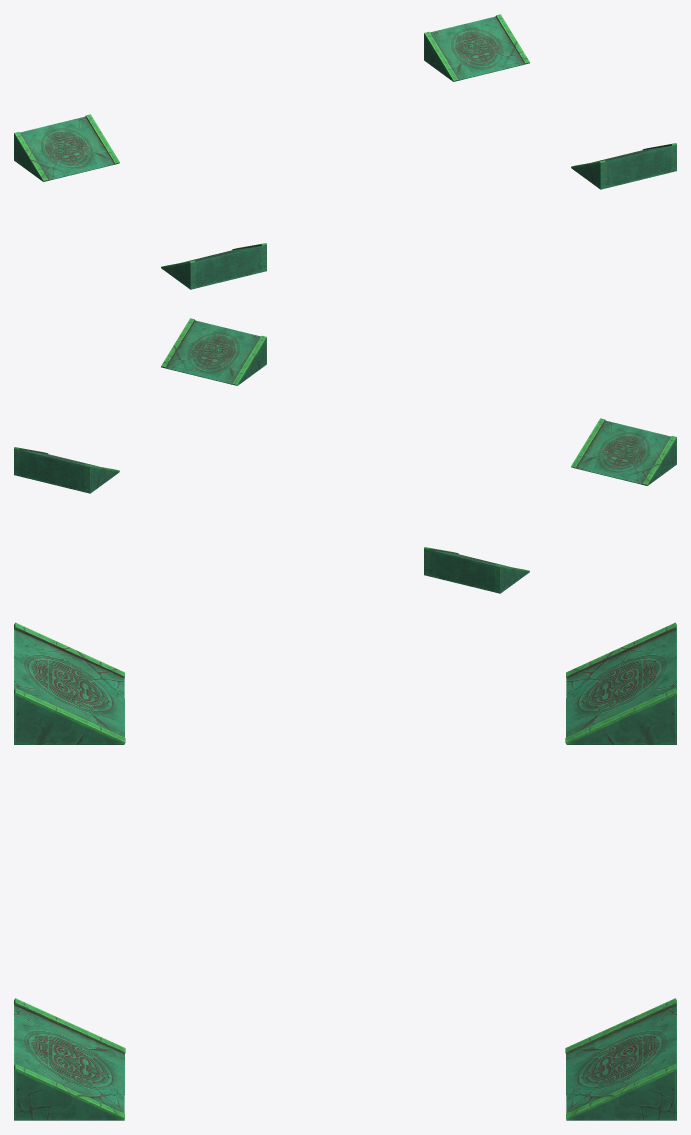
Rendered from ramps.obj.
3 views of the same model, one above another, from view 1: azimuth 30°, elevation 25°; view 2: azimuth 150°, elevation 25°; view 3: azimuth 270°, elevation 25° (orthographic). The views are drawn at different scales.
Parts seen in each view (by area): view 1: ramp_low; view 2: ramp_low; view 3: ramp_low.
Part boxes in pixels (x1,y1,x2,y2): ramp_low: [14, 14, 676, 289]; ramp_low: [14, 318, 676, 593]; ramp_low: [14, 622, 676, 1120].
Bounding box in the file's own units: 1906 × 105 × 1199.
